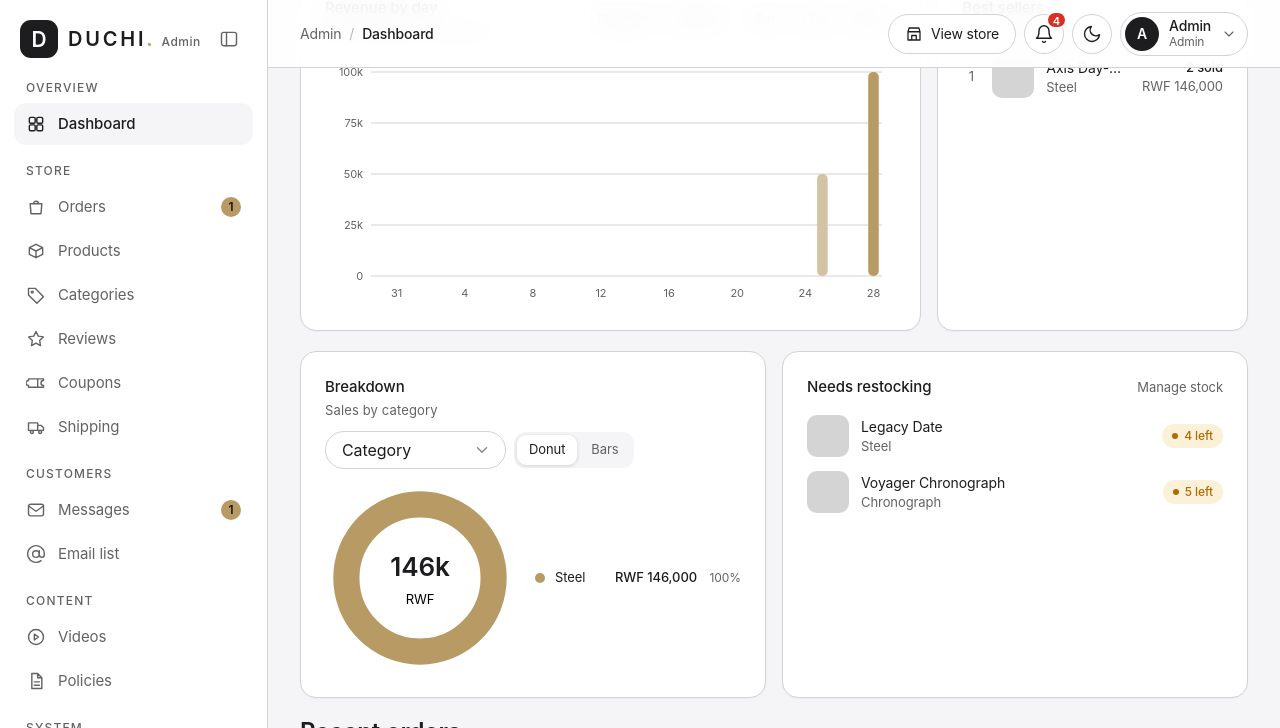
Dashboard › breaks sales down as a donut or as bars
The width and height of the screenshot is (1280, 728).
(page scrolled)
Expected: the element with class "db-donut" is shown, [325, 483, 741, 673]
Click the button "Bars" at (605, 450), box [579, 435, 631, 465]
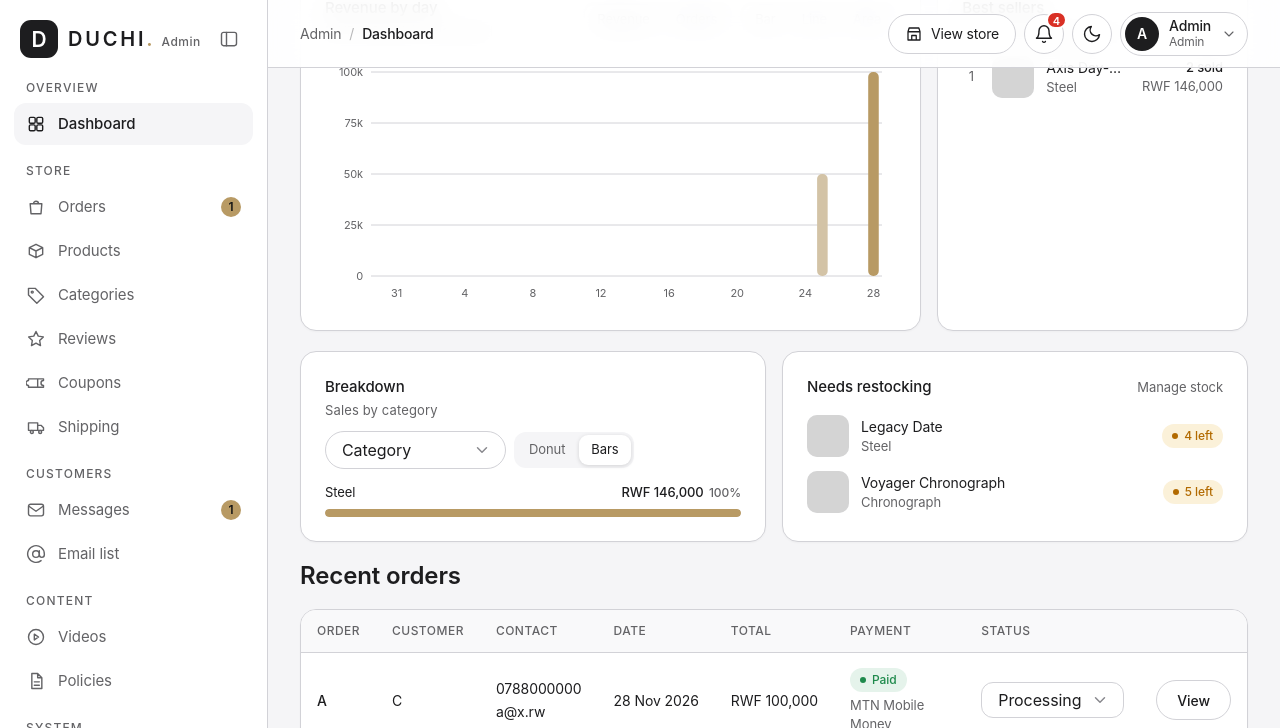
Expected: the list with class "db-hb" is shown, [325, 483, 741, 517]
Select "Payment method" in the dropdown named "Break down by" at (416, 450), box [325, 431, 506, 469]
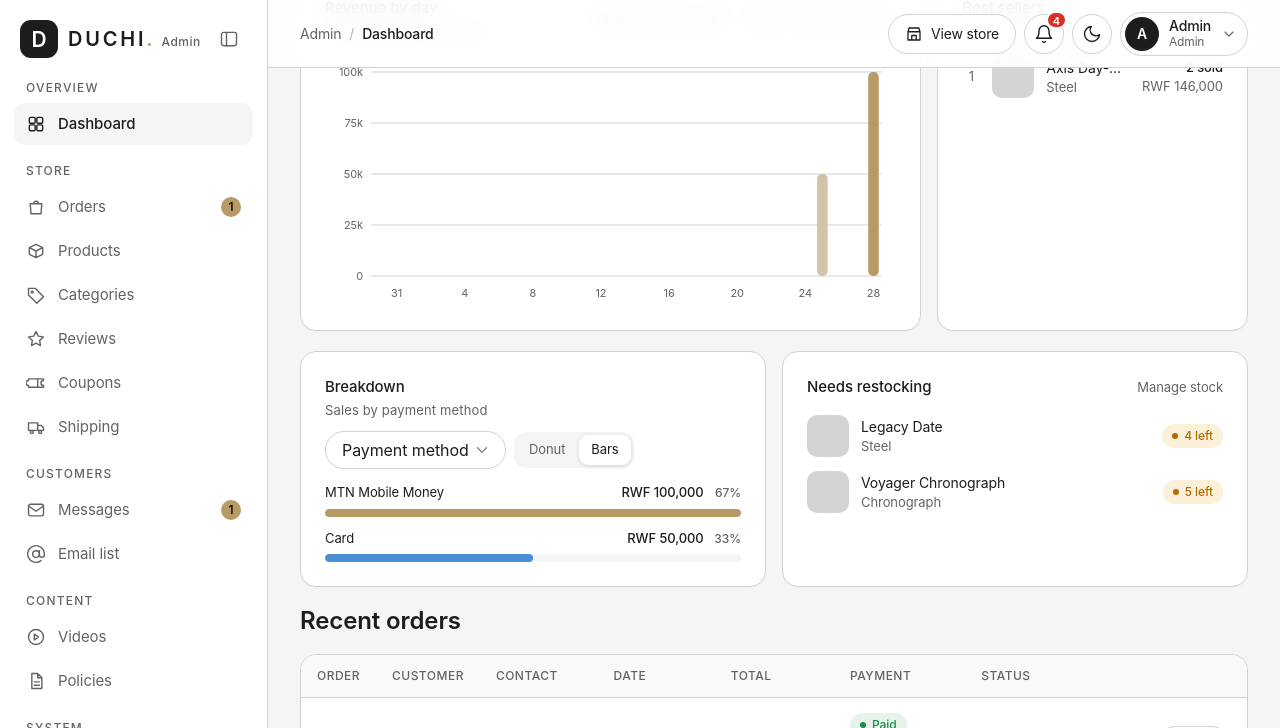
Select "Order status" in the dropdown named "Break down by" at (416, 450), box [325, 431, 506, 469]
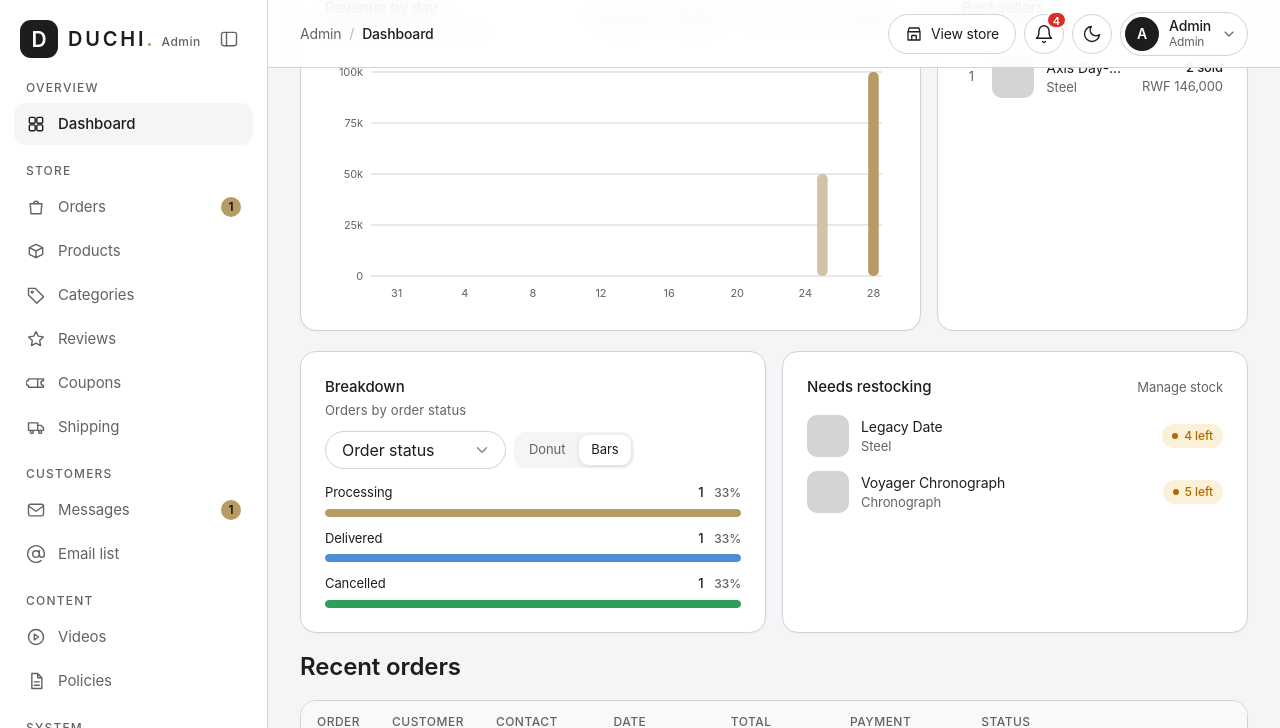
Now the text "Cancelled" is shown, box [325, 574, 386, 594]
